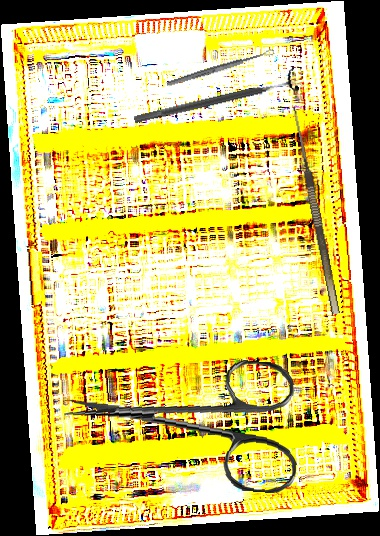Fixation Ring: (131, 66, 300, 133)
Hook Surgical: (280, 106, 340, 317)
Iris Scissors: (58, 344, 306, 496)
Surgical Spoon: (165, 48, 276, 88)
